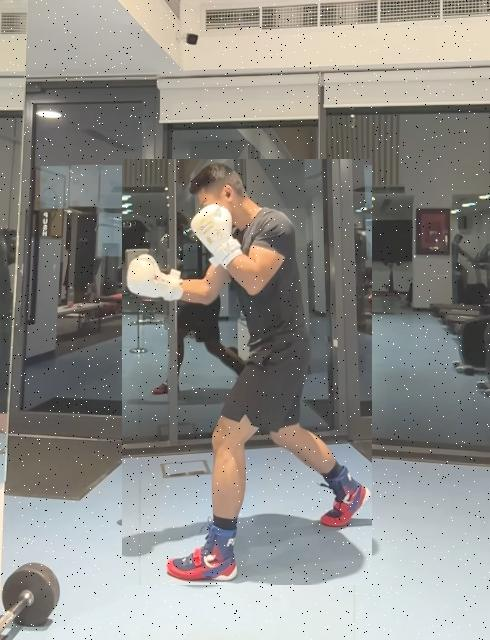punch: (122, 159, 372, 585)
